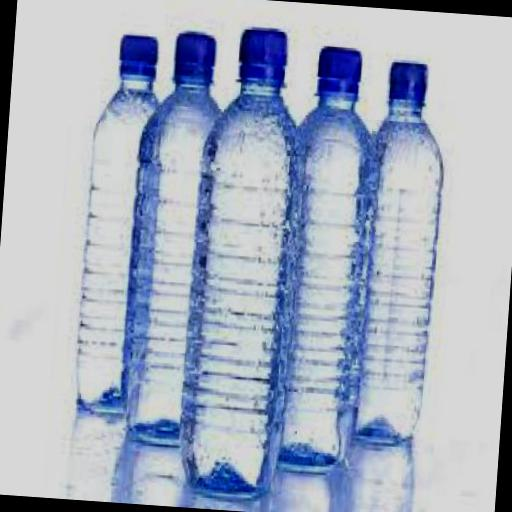plastic: (175, 22, 310, 498), (117, 28, 233, 444), (270, 44, 381, 476), (71, 30, 172, 415), (350, 56, 448, 444), (235, 24, 288, 88), (315, 46, 361, 97), (172, 30, 215, 81), (386, 56, 428, 107), (116, 32, 158, 82)
